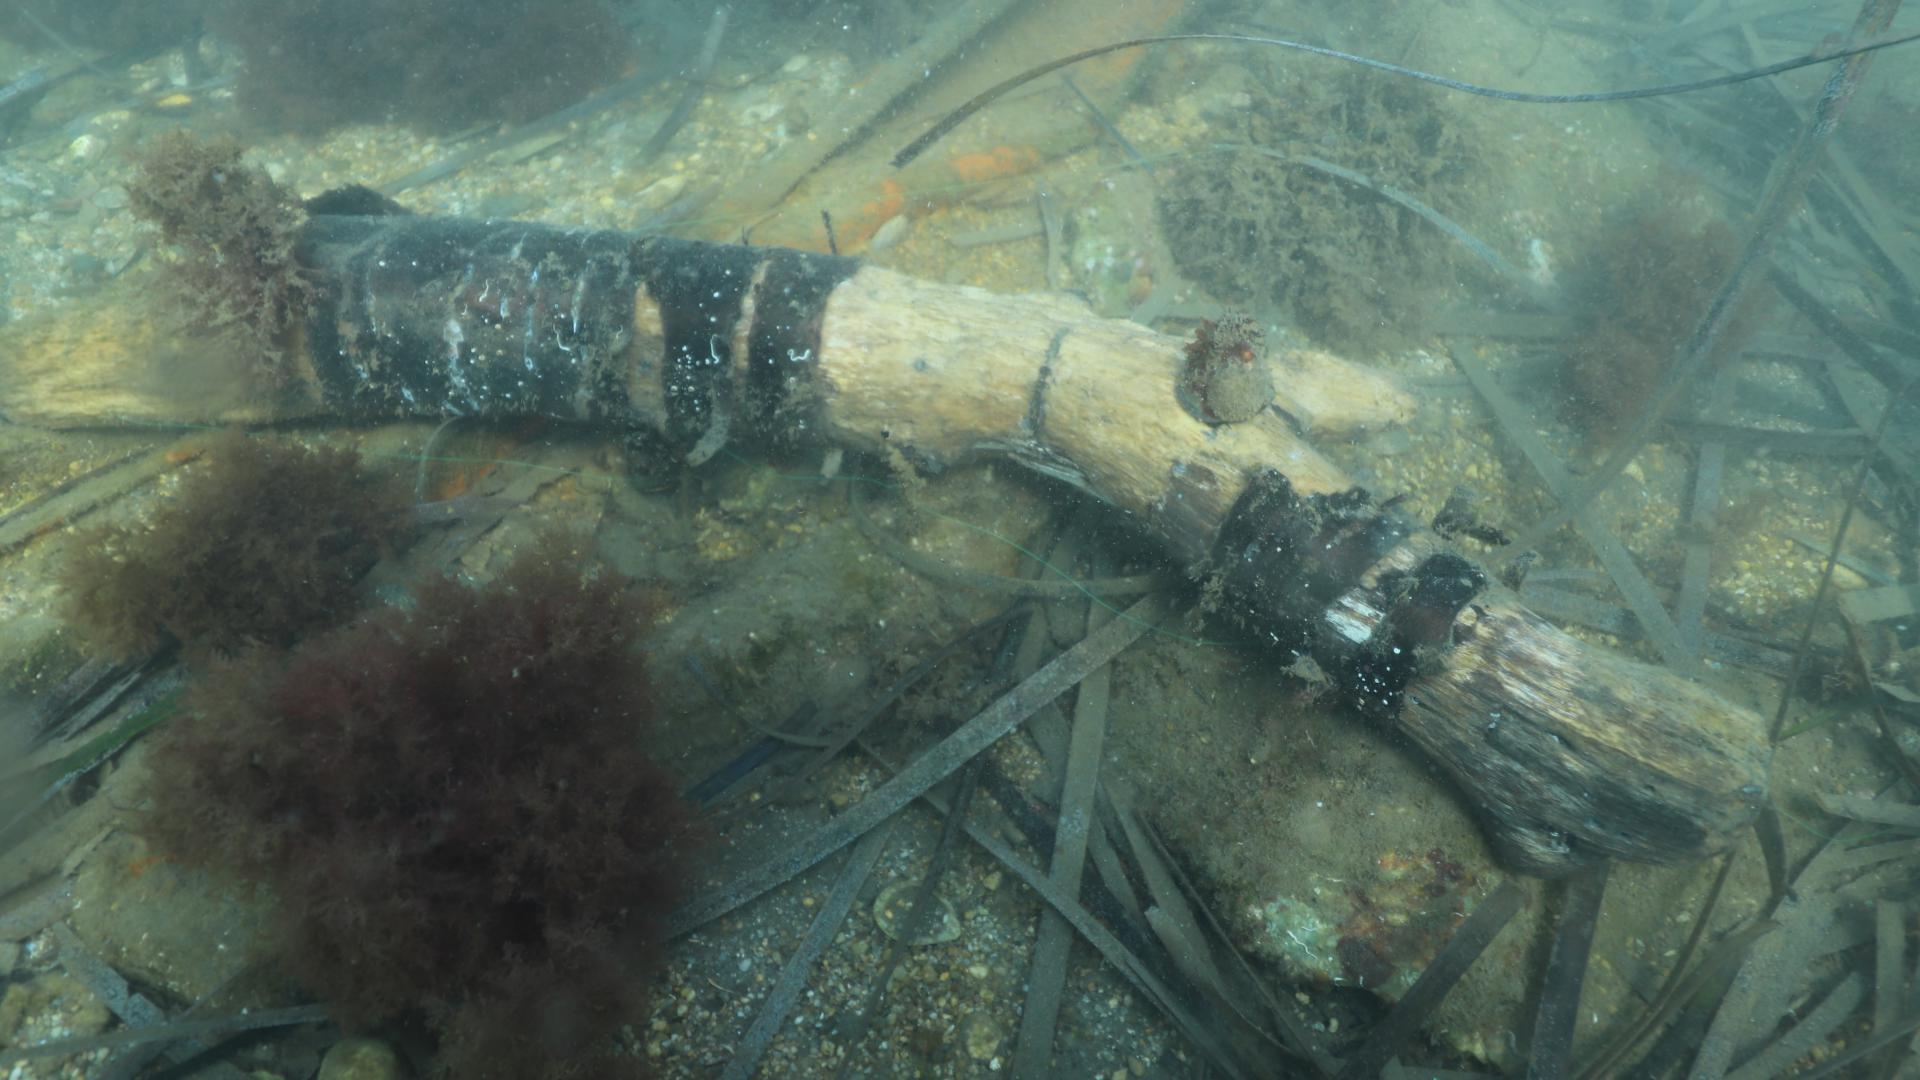wood: (222, 178, 1771, 880)
